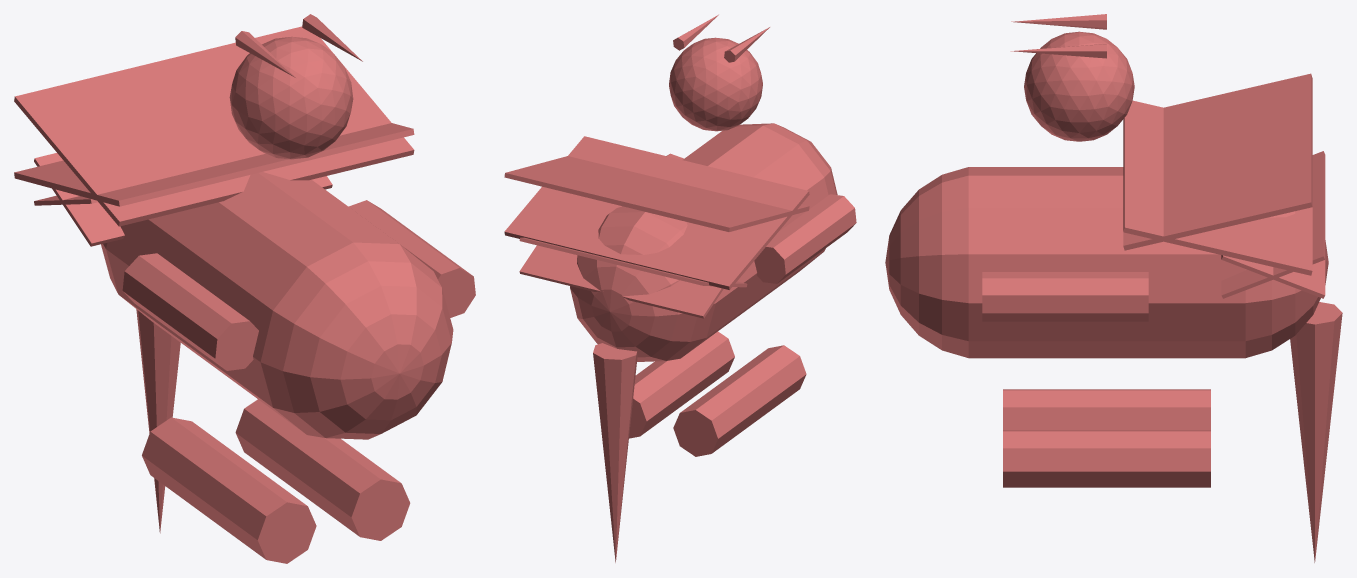
Rendered from Titan_A_Boss.glb.
3 renders of one model, left to right at view 1: azimuth 30°, elevation 25°; view 2: azimuth 150°, elevation 25°; view 3: azimuth 270°, elevation 25°, orthographic. The views are drawn at different scales.
Parts seen in each view (by area): view 1: world; view 2: world; view 3: world.
Part boxes in pixels (x1=…): world: x1=14, y1=14, x2=475, y2=563; world: x1=504, y1=14, x2=856, y2=562; world: x1=885, y1=14, x2=1342, y2=562.
Bounding box in the file's own units: 2.2 × 4.26 × 3.3.
